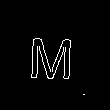M_N: (31, 29, 79, 81)
